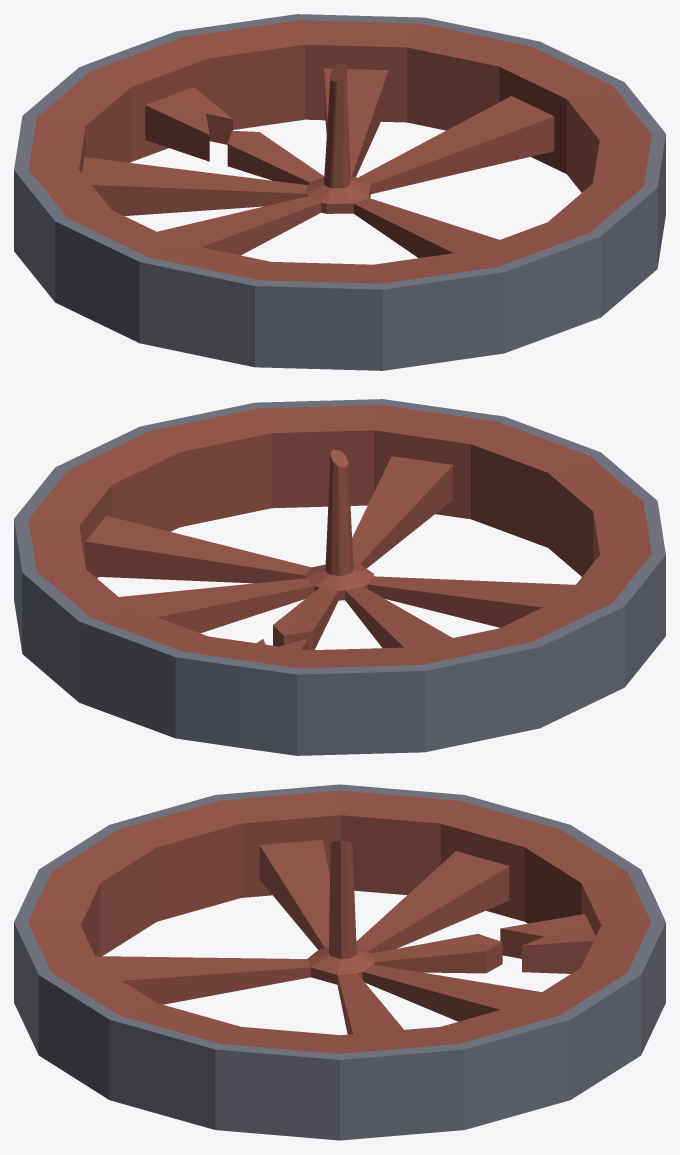
File: Wheel.fbx
3 renders of one model, top to bottom at view 1: azimuth 30°, elevation 25°; view 2: azimuth 150°, elevation 25°; view 3: azimuth 270°, elevation 25°, orthographic.
Parts seen in each view (by area): view 1: Wheel; view 2: Wheel; view 3: Wheel.
Boxes of the visible parts, left/top/right/bottom form: Wheel: left=14, top=14, right=665, bottom=370; Wheel: left=14, top=399, right=665, bottom=755; Wheel: left=14, top=784, right=665, bottom=1140.
Size of the model in its own units: 233 by 65.24 by 233.
